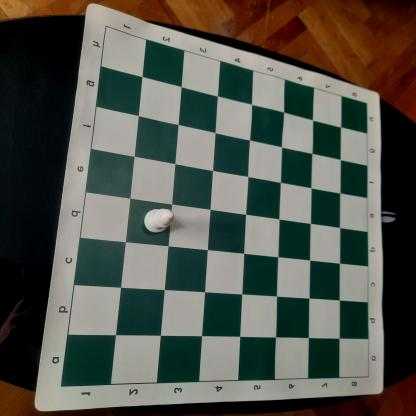white-bishop: (140, 208, 176, 235)
